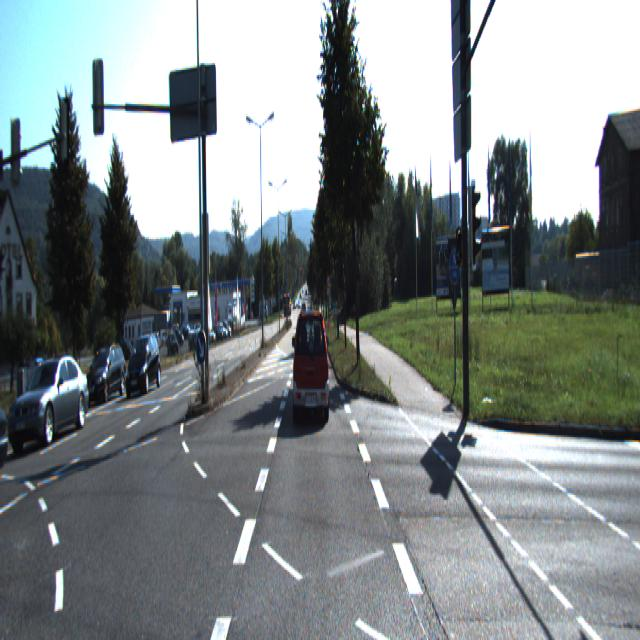Car: (12, 355, 90, 449), (293, 308, 329, 422), (82, 345, 128, 404), (124, 335, 161, 402)
